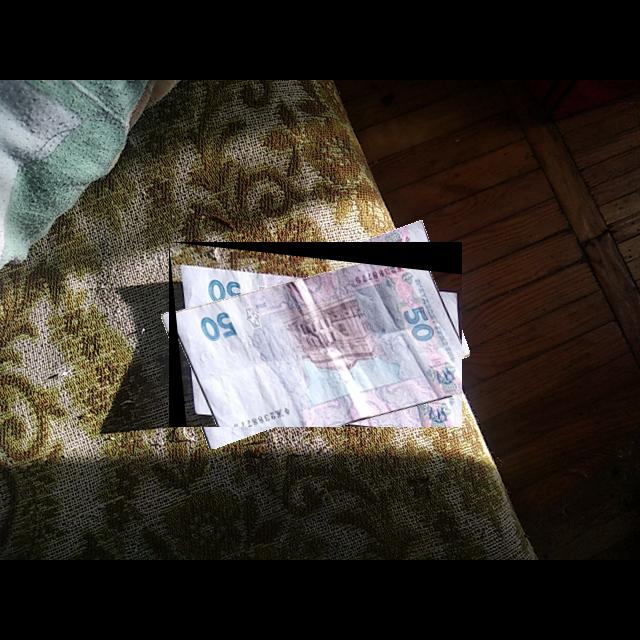50uah: (169, 242, 463, 428)
